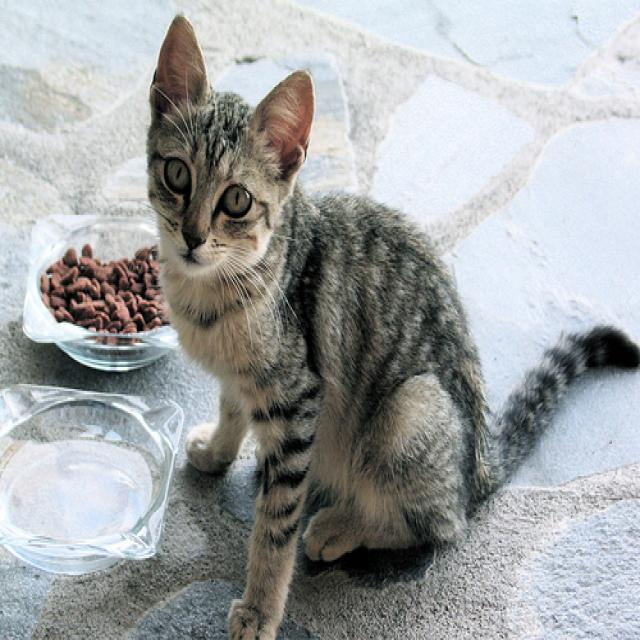left eye: (218, 179, 254, 220)
